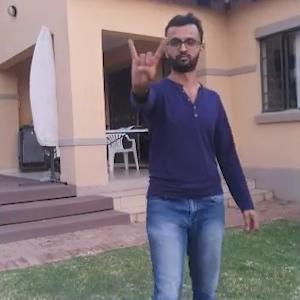takeoff-hand: (121, 29, 171, 94)
